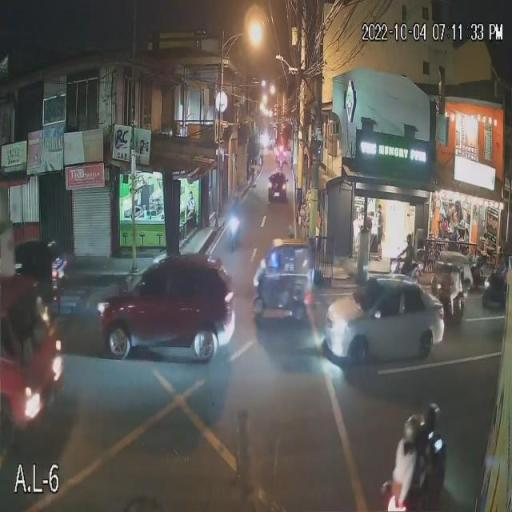helmet: (397, 413, 427, 443), (428, 403, 446, 434), (230, 191, 246, 206), (404, 230, 417, 246)
motorcycle: (377, 432, 455, 512), (478, 264, 510, 309), (378, 261, 430, 278), (225, 214, 247, 250)
rider: (392, 437, 419, 510), (416, 433, 435, 497), (389, 246, 421, 268), (228, 202, 247, 228)
